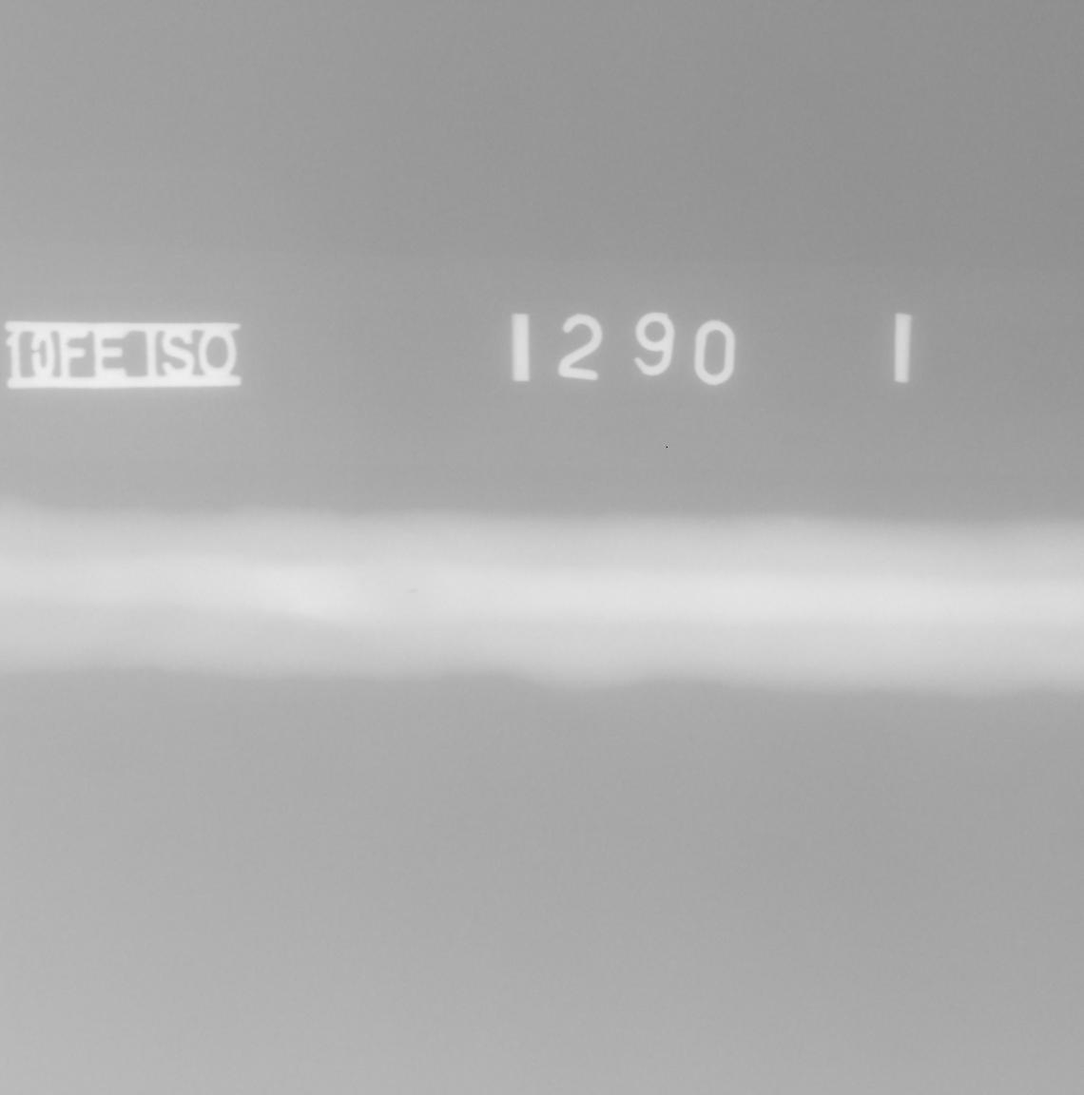Pore/Porosity: (407, 588, 418, 593)
